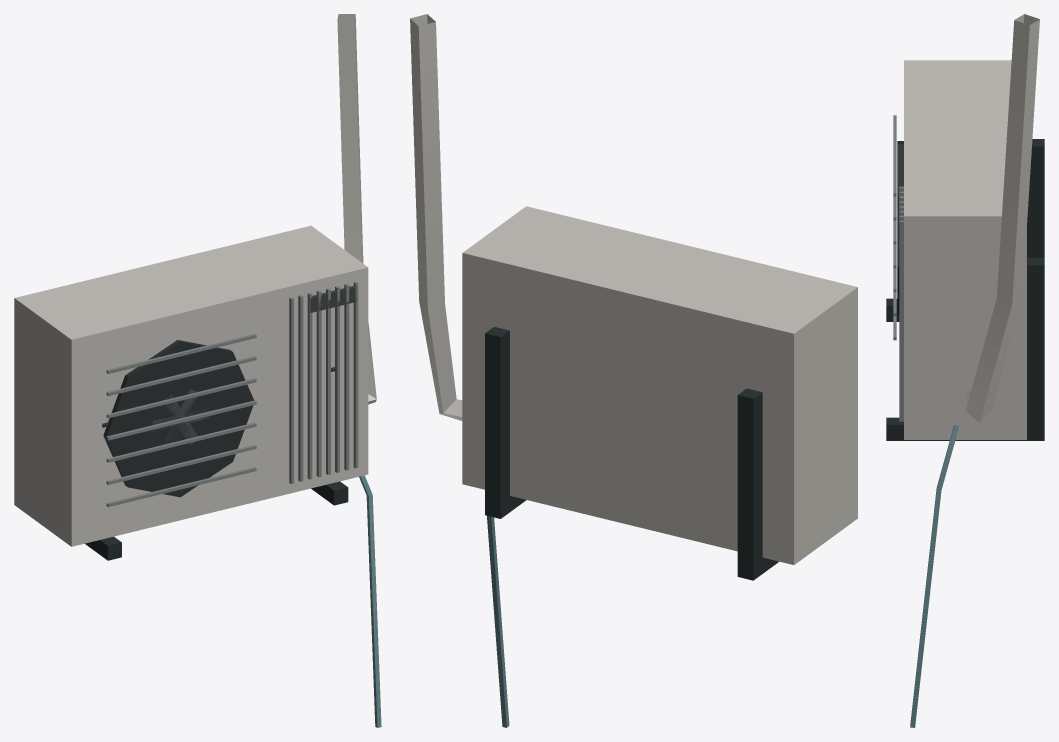
File: may_lanh.glb
3 renders of one model, left to right at view 1: azimuth 30°, elevation 25°; view 2: azimuth 150°, elevation 25°; view 3: azimuth 270°, elevation 25°, orthographic. The views are drawn at different scales.
Parts seen in each view (by area): view 1: may_lanh; view 2: may_lanh; view 3: may_lanh.
Boxes of the visible parts, <box> form: may_lanh: <box>14,14,381,727</box>; may_lanh: <box>410,14,857,727</box>; may_lanh: <box>886,14,1044,727</box>.
Size of the model in its own units: 0.9694 by 1.8 by 0.36.
